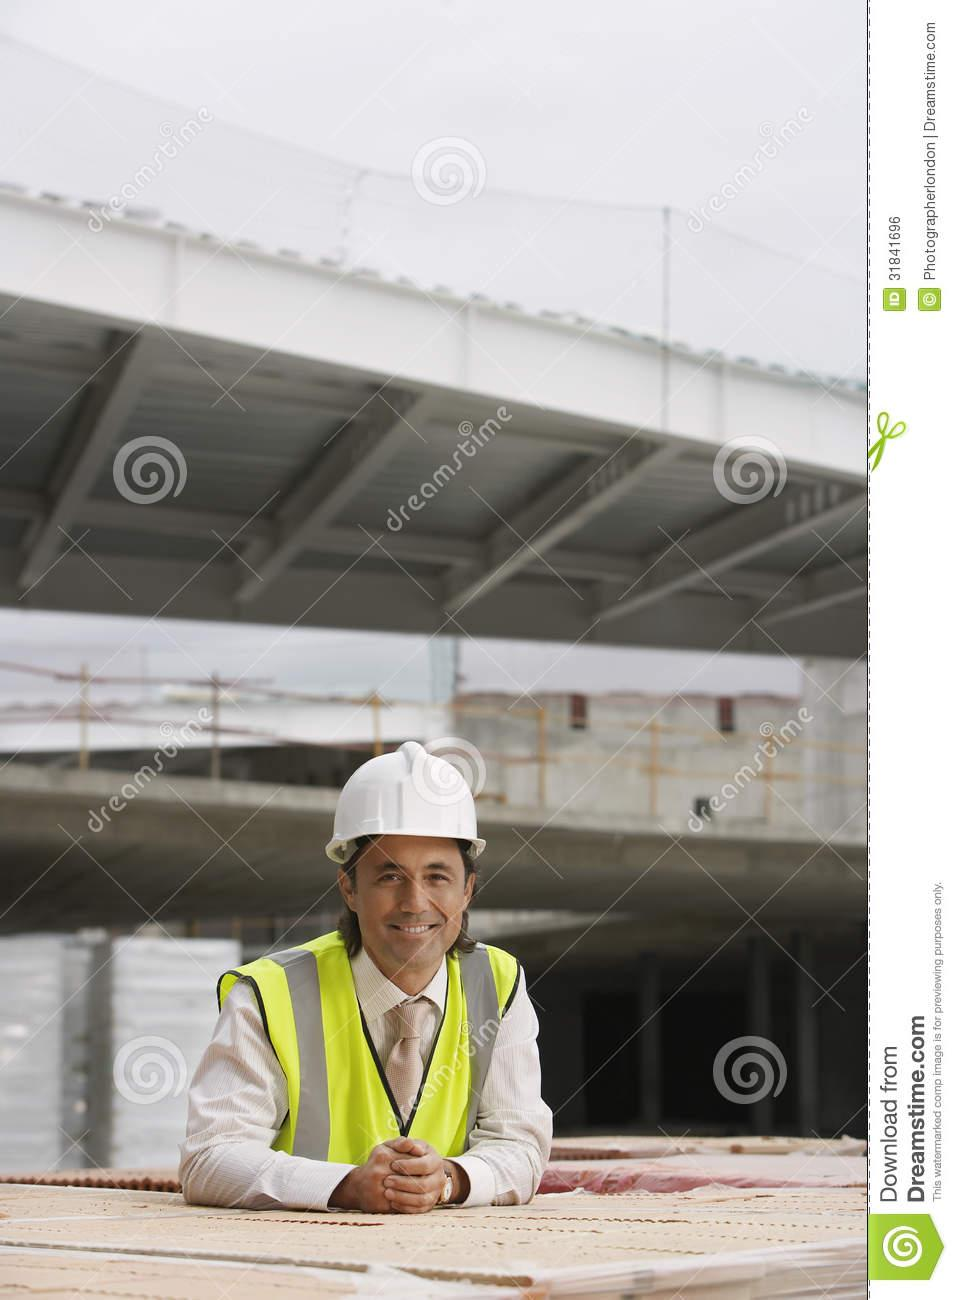helmet: (323, 745, 493, 861)
